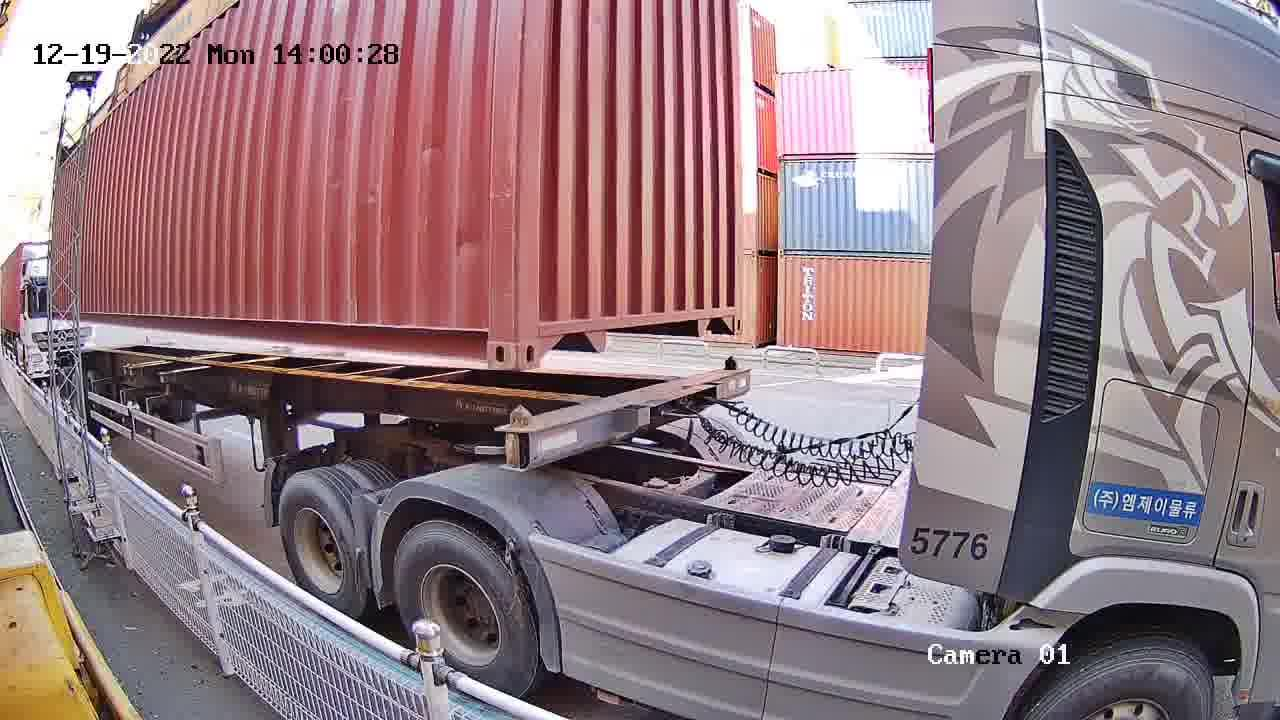Chassis: (499, 367, 749, 465)
Cone: (501, 405, 536, 467), (722, 354, 740, 380)
Hole_L: (518, 307, 572, 371)
Hole_R: (450, 307, 516, 370), (708, 293, 744, 337)
Tire: (397, 524, 536, 692), (279, 477, 358, 609)
